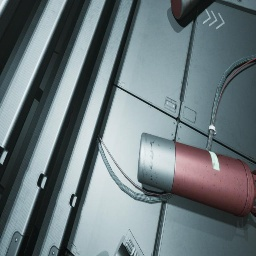NitrogenTank ,: (137, 133, 256, 217), (170, 0, 202, 20)
